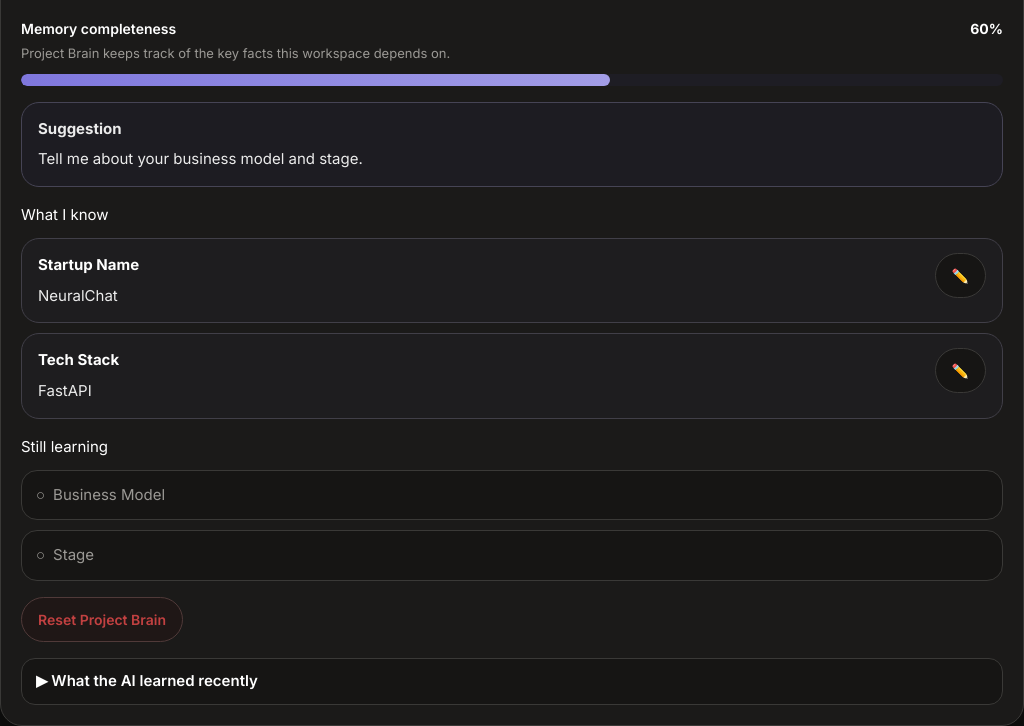
Test: ProjectBrainPanel › keeps the brain log collapsed by default and expands on click
This screenshot has width=1024, height=726.
(page scrolled)
expect the text "learned: tech stack" is not shown: met
Click the button "▶ What the AI learned recently" at (153, 681), box [21, 658, 1003, 705]
(page scrolled)
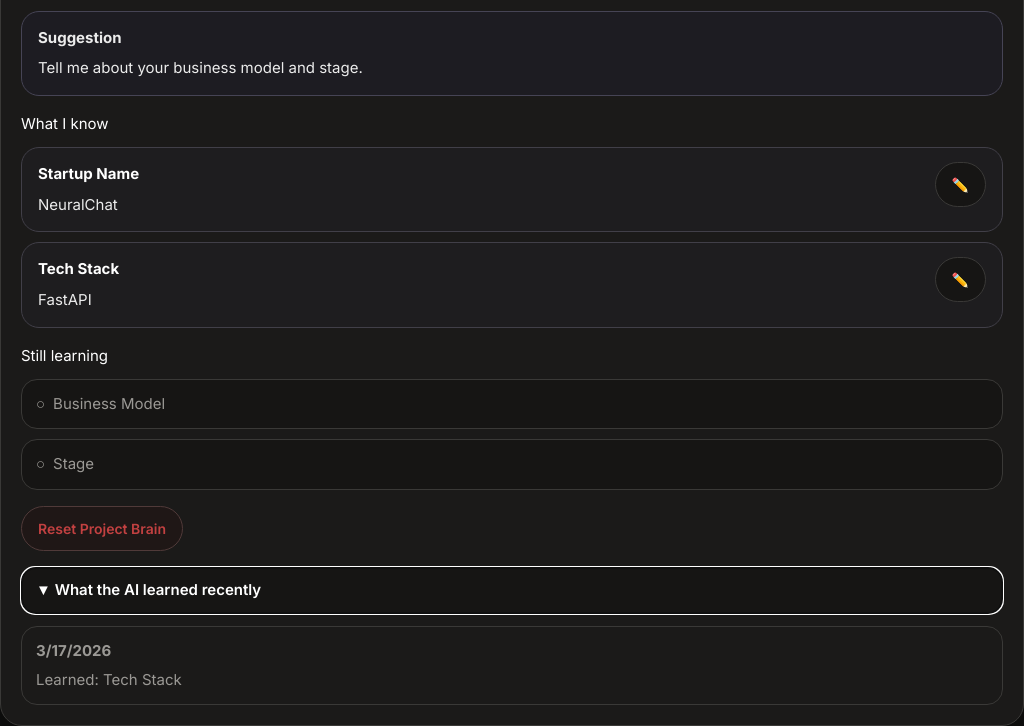
expect the text "Learned: Tech Stack" is shown: met, box [36, 670, 182, 689]
